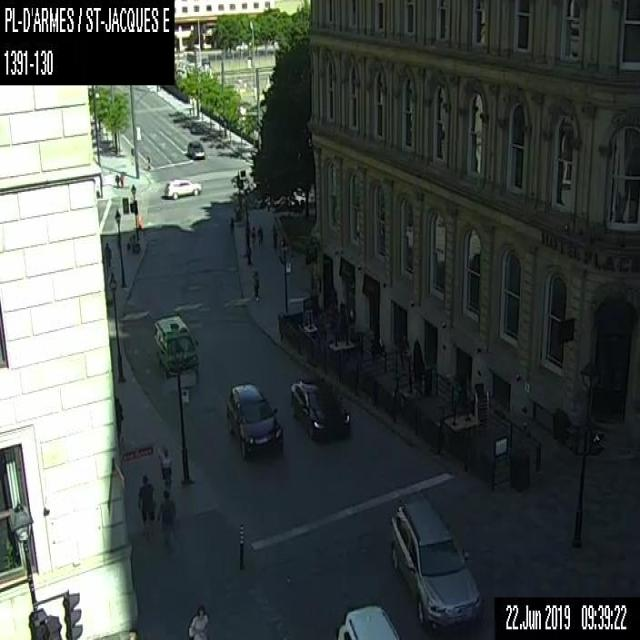pedestrian: (136, 473, 156, 535), (156, 488, 176, 544), (188, 602, 209, 638), (158, 442, 172, 492), (112, 393, 124, 444), (251, 271, 259, 301), (103, 240, 110, 271), (249, 224, 256, 250), (271, 222, 277, 250), (256, 223, 263, 246)
vehicle: (389, 492, 482, 628), (224, 382, 284, 458), (287, 379, 350, 437), (151, 313, 199, 376), (334, 601, 400, 639), (163, 177, 202, 199), (187, 138, 206, 158), (189, 121, 205, 135)
